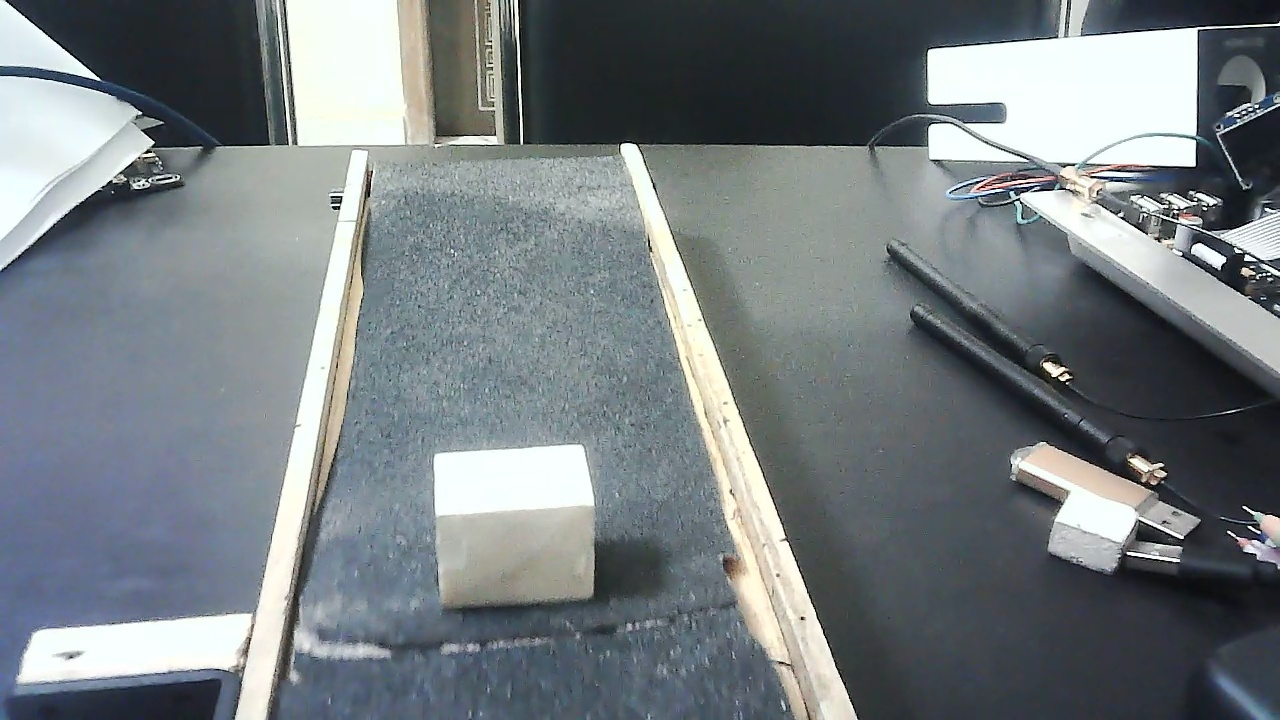Medium: (433, 445, 594, 606)
